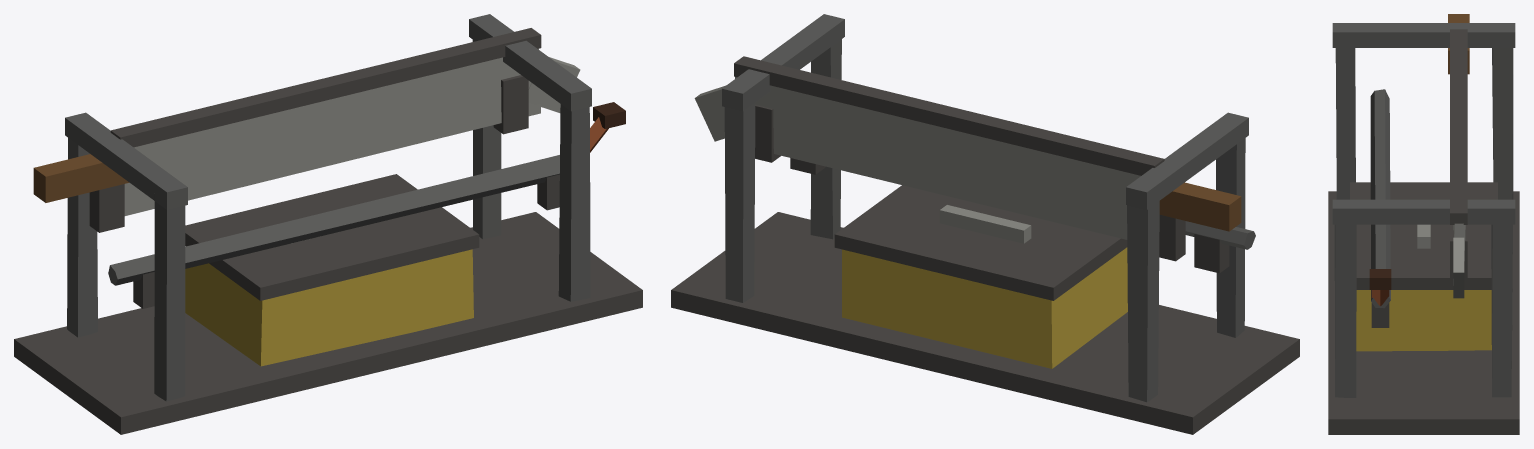
The model's file is util_scraper.glb.
3 renders of one model, left to right at view 1: azimuth 30°, elevation 25°; view 2: azimuth 150°, elevation 25°; view 3: azimuth 270°, elevation 25°, orthographic. The views are drawn at different scales.
Parts seen in each view (by area): view 1: util_scraper; view 2: util_scraper; view 3: util_scraper.
Part boxes in pixels (x1,y1,x2,y2): util_scraper: (14, 14, 642, 434); util_scraper: (671, 14, 1299, 434); util_scraper: (1328, 14, 1519, 434).
Size of the model in its own units: 1.28 by 0.525 by 0.44.
